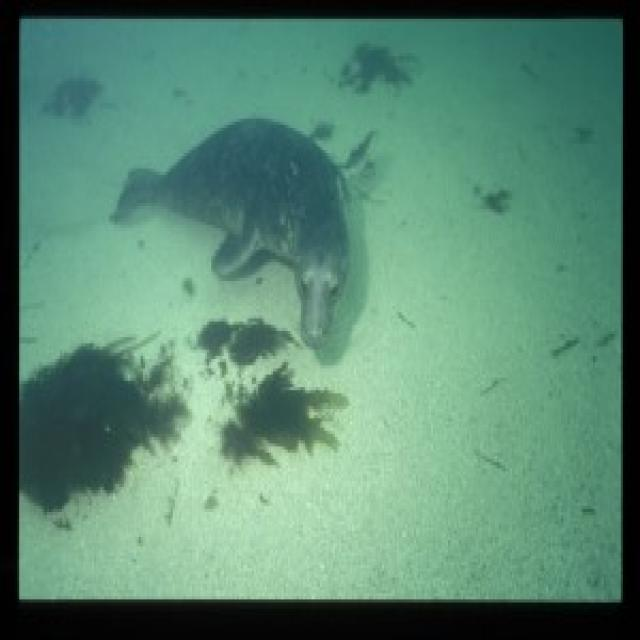Seal: (94, 88, 360, 351)
